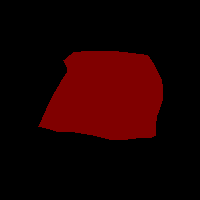mutande: (38, 50, 163, 140)
